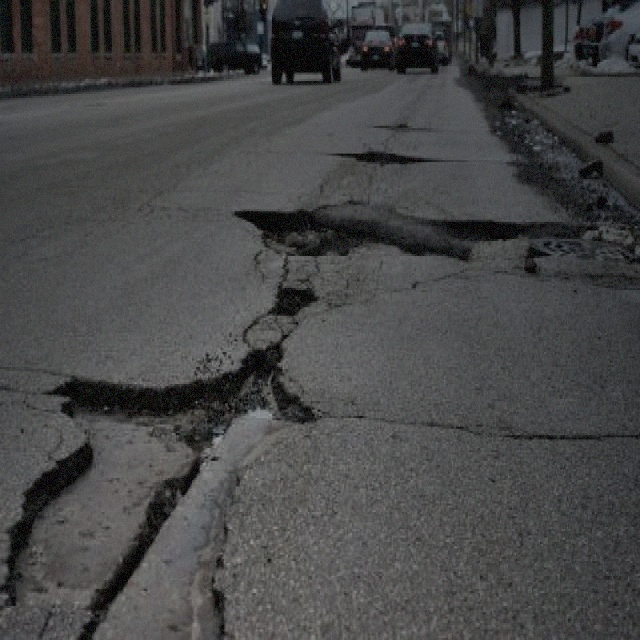pothole: (1, 339, 323, 638), (231, 203, 352, 260), (432, 211, 583, 243), (265, 281, 320, 318), (337, 147, 424, 164)
